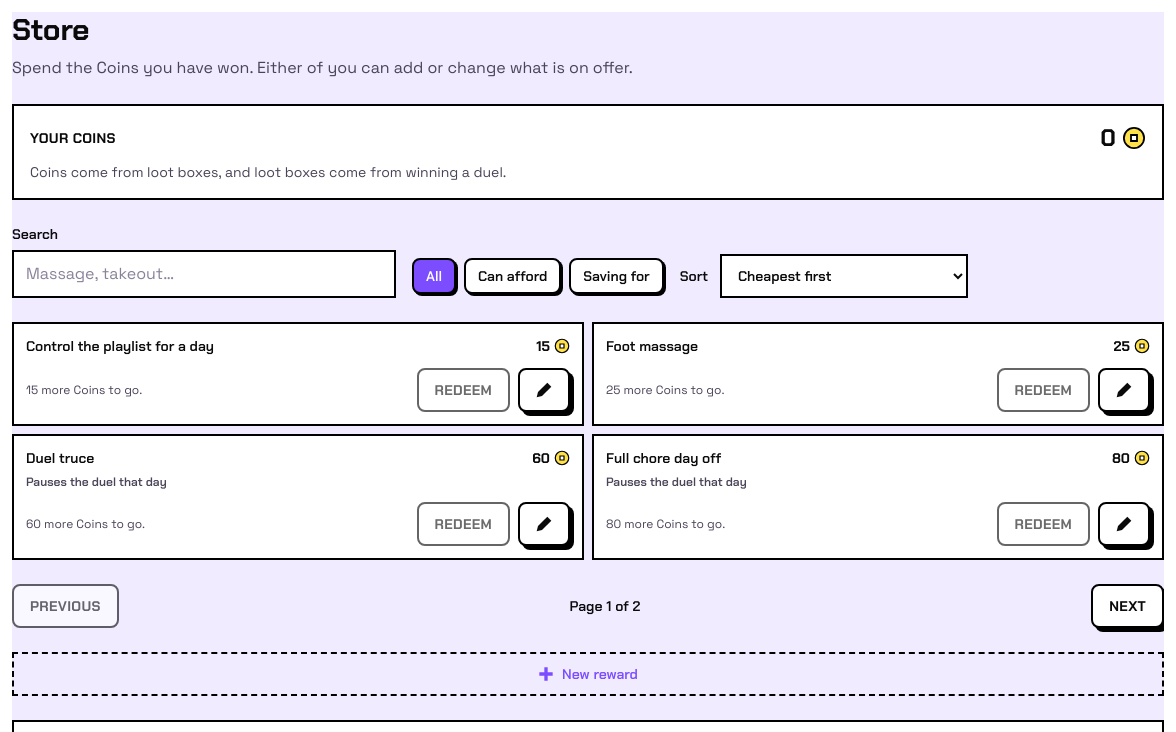
Test case: pagination › asks for the next page and stops at the last
This screenshot has width=1176, height=732.
Check: the heading "Foot massage" is shown, box [606, 336, 698, 356]
Check: the button "Previous" is disabled, box [12, 584, 119, 628]
Click the button "Next" at (1128, 606), box [1091, 584, 1164, 628]
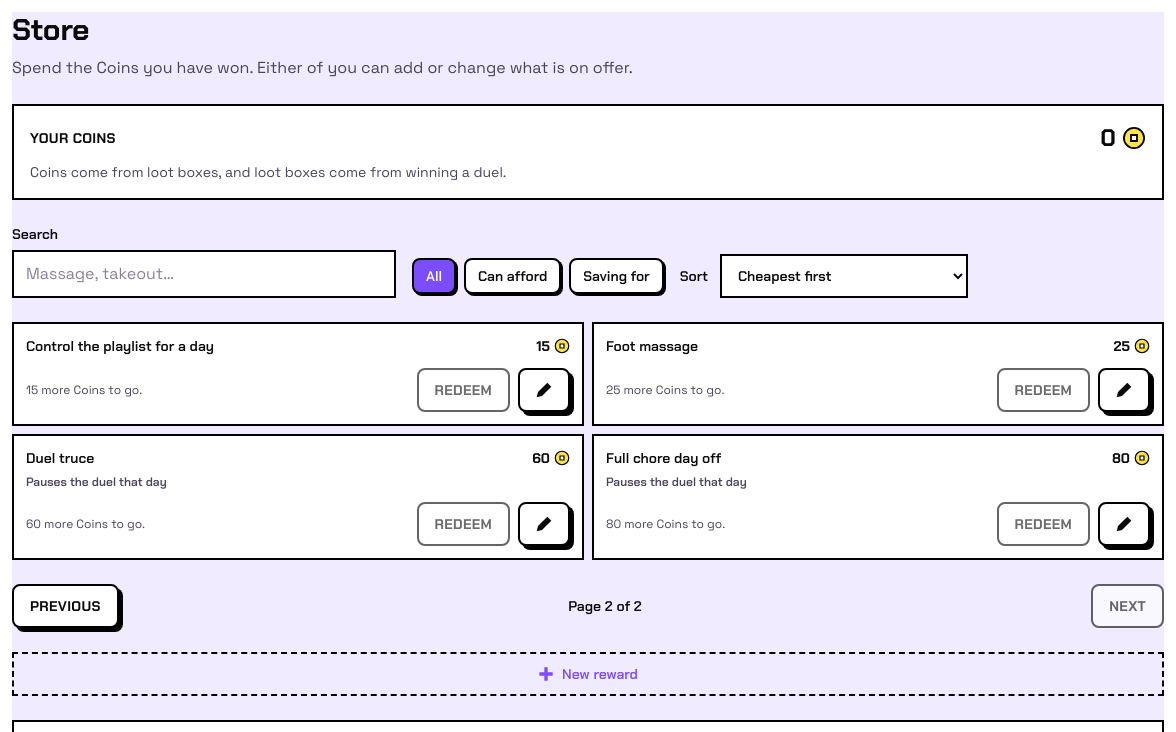
Check: the text "Page 2 of 2" is shown, box [568, 596, 642, 616]
Check: the button "Next" is disabled, box [1091, 584, 1164, 628]
